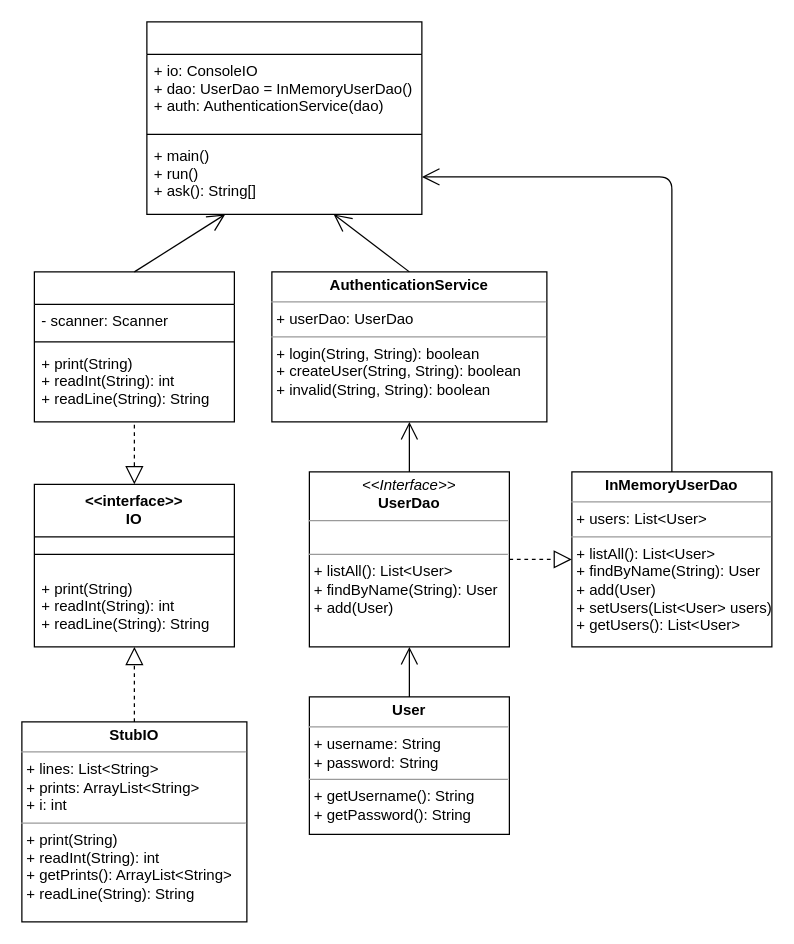
Image size: 794x944. Some labels were removed from this diagram. The box of each missing label's shape, as (x1, y1, x2, y2) in pixels:
App: (146, 21, 422, 214)
ConsoleIO: (33, 271, 234, 422)
